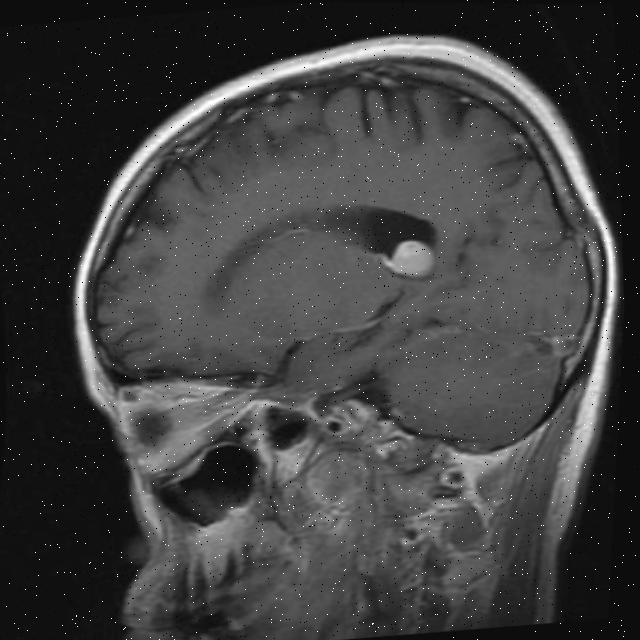Meningioma: (380, 233, 438, 281)
